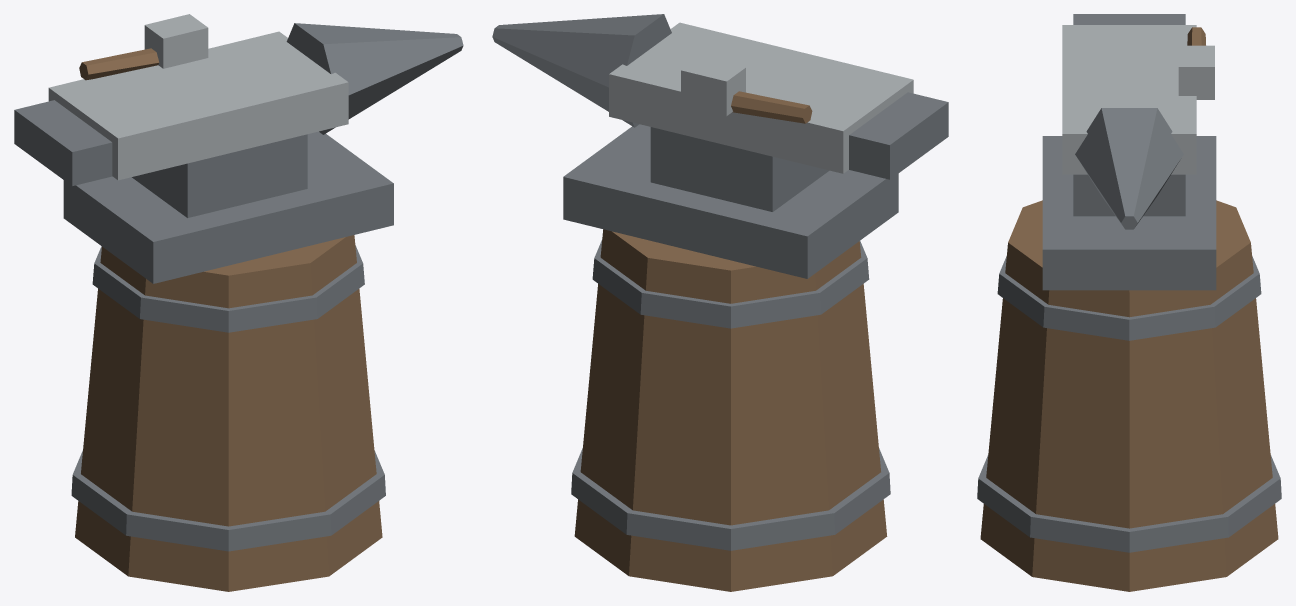
The model's file is UpgradeAnvil.fbx.
The picture shows the model from 3 angles, left to right: view 1: azimuth 30°, elevation 25°; view 2: azimuth 150°, elevation 25°; view 3: azimuth 270°, elevation 25°; orthographic projection. The views are drawn at different scales.
Parts seen in each view (by area): view 1: Stump, AnvilFace, AnvilBase, AnvilHorn, IronBand, AnvilWaist, IronBand.001, Heel, HammerHead, HammerHandle; view 2: Stump, AnvilBase, AnvilFace, AnvilHorn, IronBand, AnvilWaist, IronBand.001, Heel, HammerHead, HammerHandle; view 3: Stump, AnvilBase, AnvilFace, AnvilHorn, IronBand, IronBand.001, AnvilWaist, HammerHead, Heel.
Part boxes in pixels (x1,y1,x2,y2): Stump: (75,235,382,591); AnvilFace: (48,31,348,180); AnvilBase: (63,131,393,283); AnvilHorn: (286,23,463,134); IronBand: (71,450,385,551); AnvilWaist: (132,134,307,217); IronBand.001: (92,245,364,332); Heel: (14,100,112,186); HammerHead: (144,14,208,68); HammerHandle: (79,48,159,80); Stump: (574,229,887,591); AnvilBase: (563,124,898,278); AnvilFace: (609,22,913,173); AnvilHorn: (492,14,671,127); IronBand: (571,448,890,550); AnvilWaist: (650,127,829,211); IronBand.001: (592,239,869,328); Heel: (849,92,948,179); HammerHead: (681,56,745,115); HammerHandle: (731,91,812,123); Stump: (980,200,1278,591); AnvilBase: (1042,136,1216,290); AnvilFace: (1062,25,1196,174); AnvilHorn: (1075,108,1183,229); IronBand: (977,455,1281,552); IronBand.001: (997,255,1261,340); AnvilWaist: (1073,174,1185,216); HammerHead: (1178,45,1214,99); Heel: (1073,14,1185,24).
Bounding box in the file's own units: 0.83 × 0.9125 × 0.5436.
